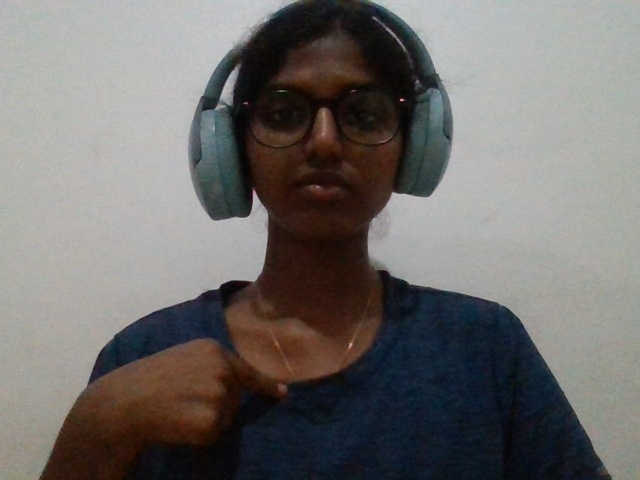Me: (37, 294, 338, 480)
